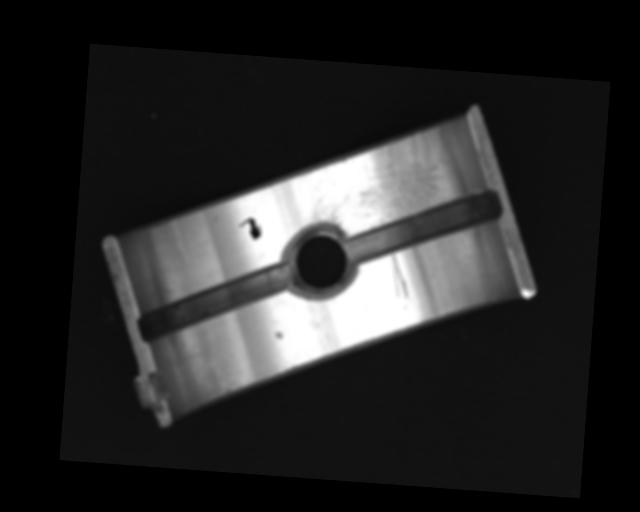blot: (237, 216, 262, 241)
bruise: (273, 330, 284, 340)
gap: (136, 251, 297, 351), (347, 180, 502, 272)
hole: (280, 220, 359, 299)
nick: (388, 251, 413, 301)
scratch: (301, 116, 447, 236)
